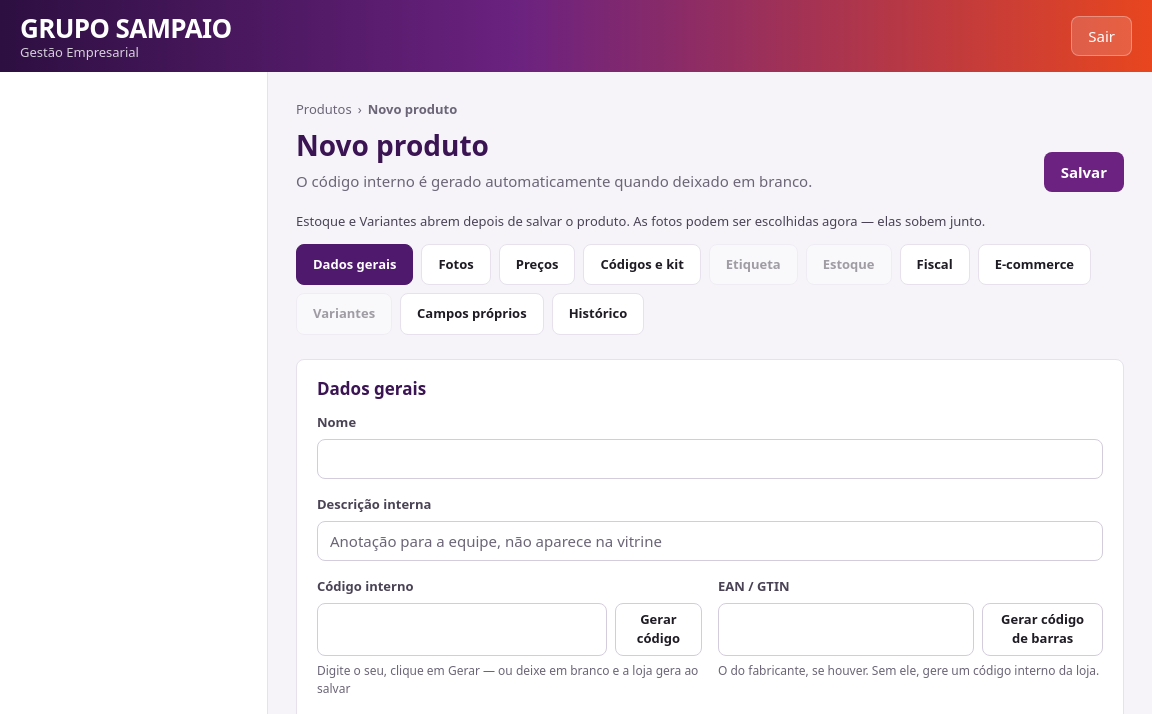
preço abaixo do piso pede confirmação (A-produto-17) › no cadastro NOVO, preço abaixo do piso também pergunta — Cancelar não cria nada
The width and height of the screenshot is (1152, 714).
Expected: the button "Salvar" is shown, [1044, 152, 1124, 192]
Type "Perfume 100ml" into the field labelled "Nome" at (710, 459), box [317, 438, 1103, 479]
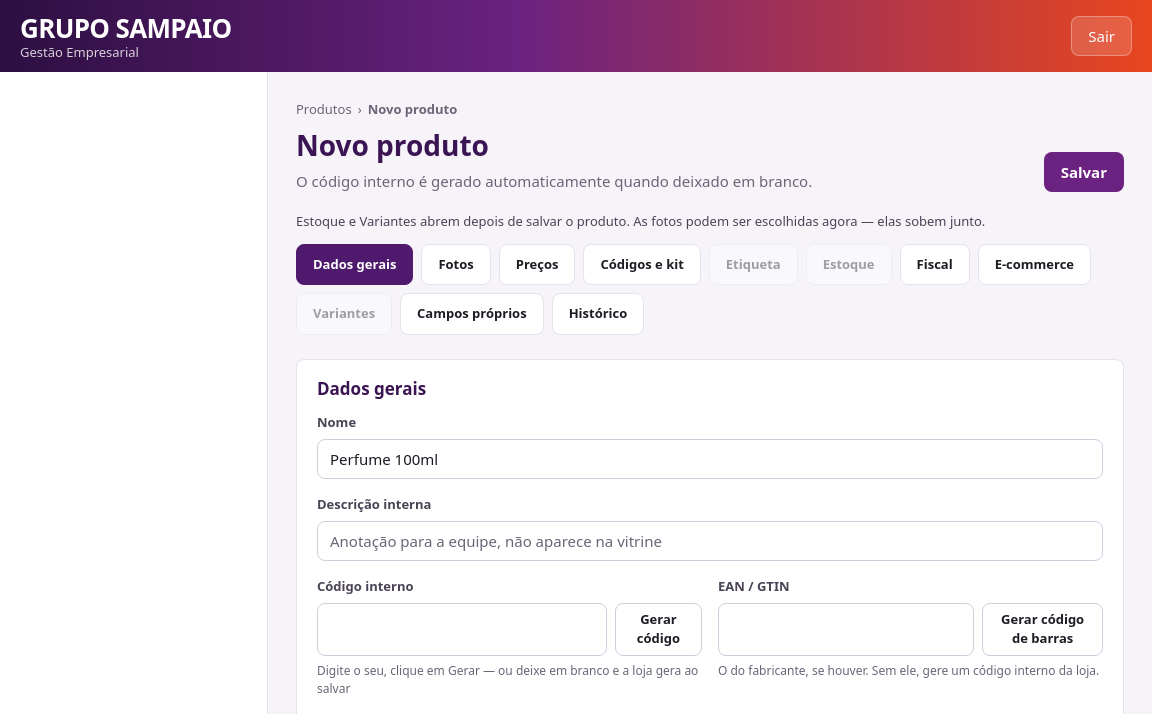
Click the tab "Preços" at (537, 264), box [499, 244, 576, 285]
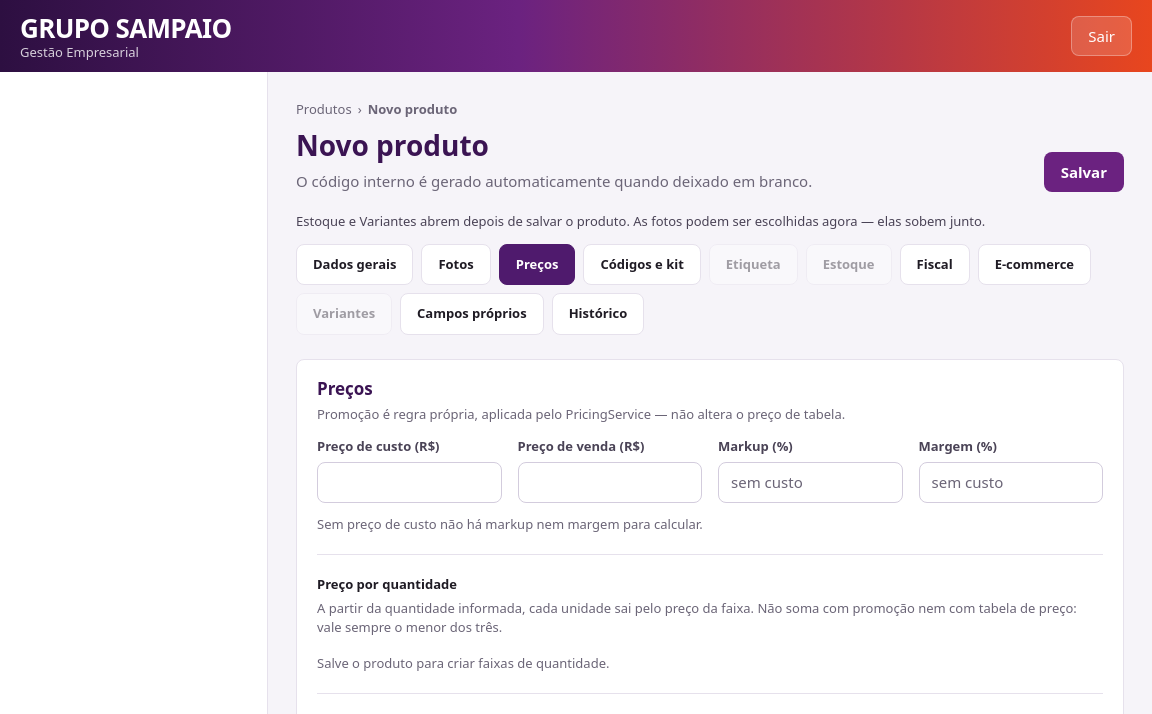
Type "19,90" into the field labelled "Preço de venda (R$)" at (610, 482), box [518, 462, 702, 502]
(page scrolled)
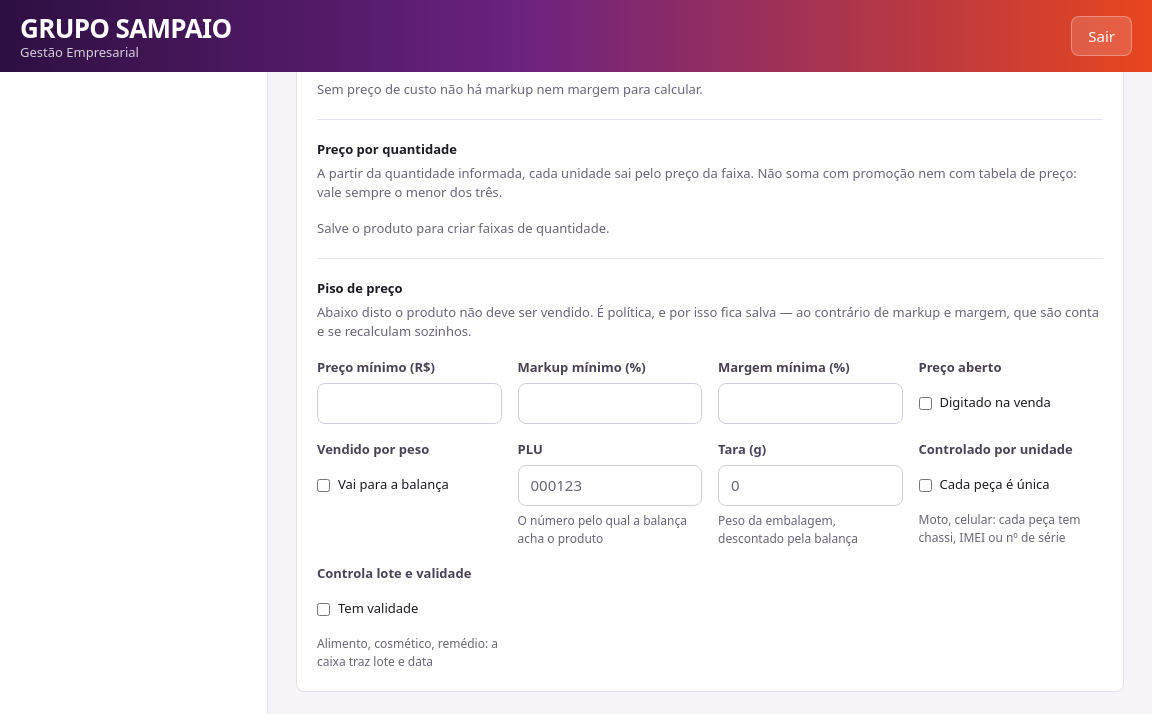
Type "25,00" into the field labelled "Preço mínimo (R$)" at (409, 403), box [317, 383, 502, 424]
(page scrolled)
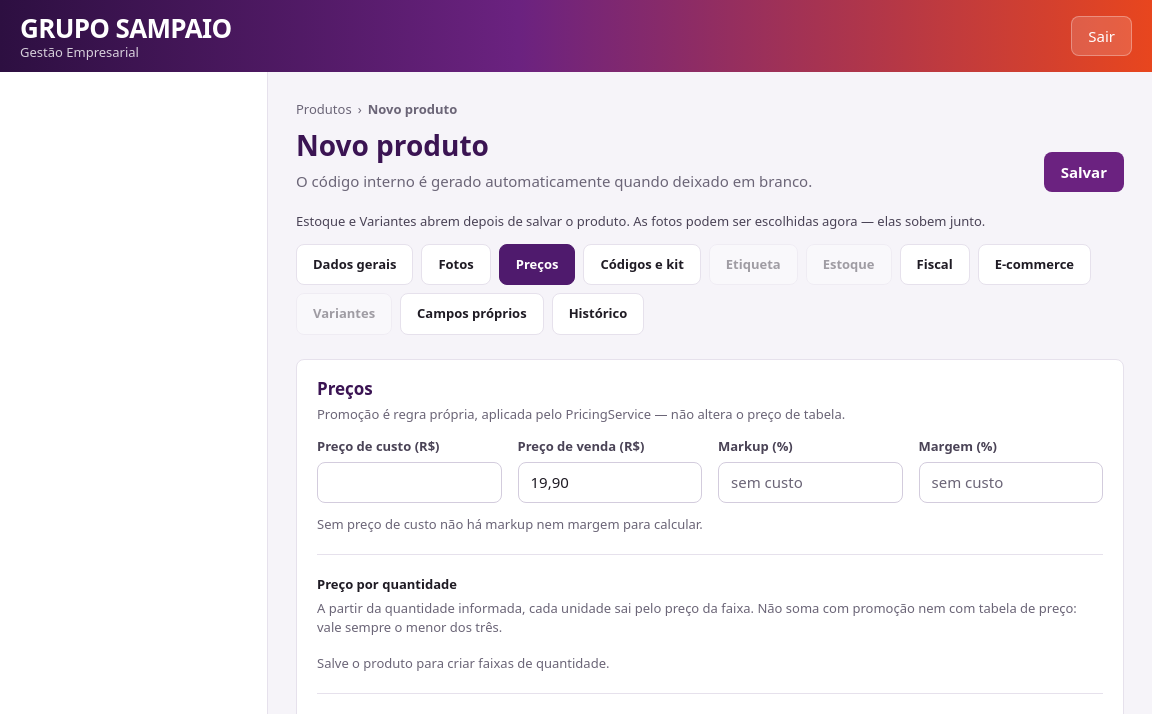
Click the button "Salvar" at (1084, 172), box [1044, 152, 1124, 192]
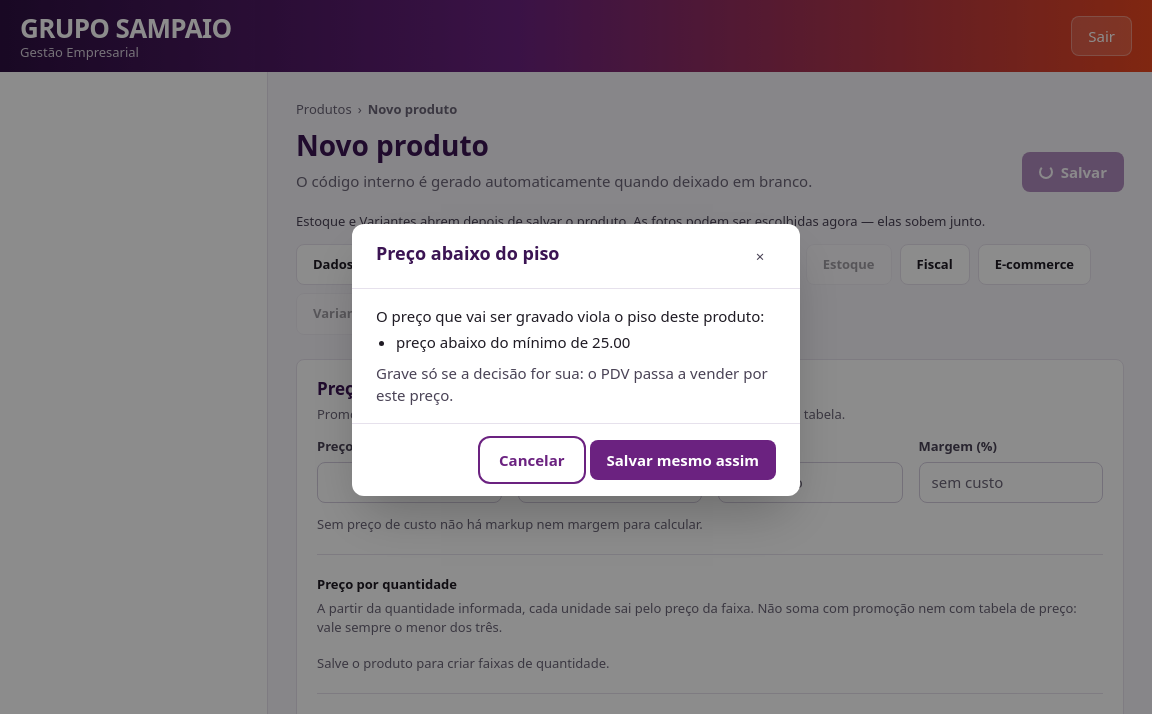
Result: the dialog shows "preço abaixo do mínimo de 25.00" at [396, 332, 630, 352]
Click the button "Cancelar" at (532, 460), box [482, 440, 582, 480]
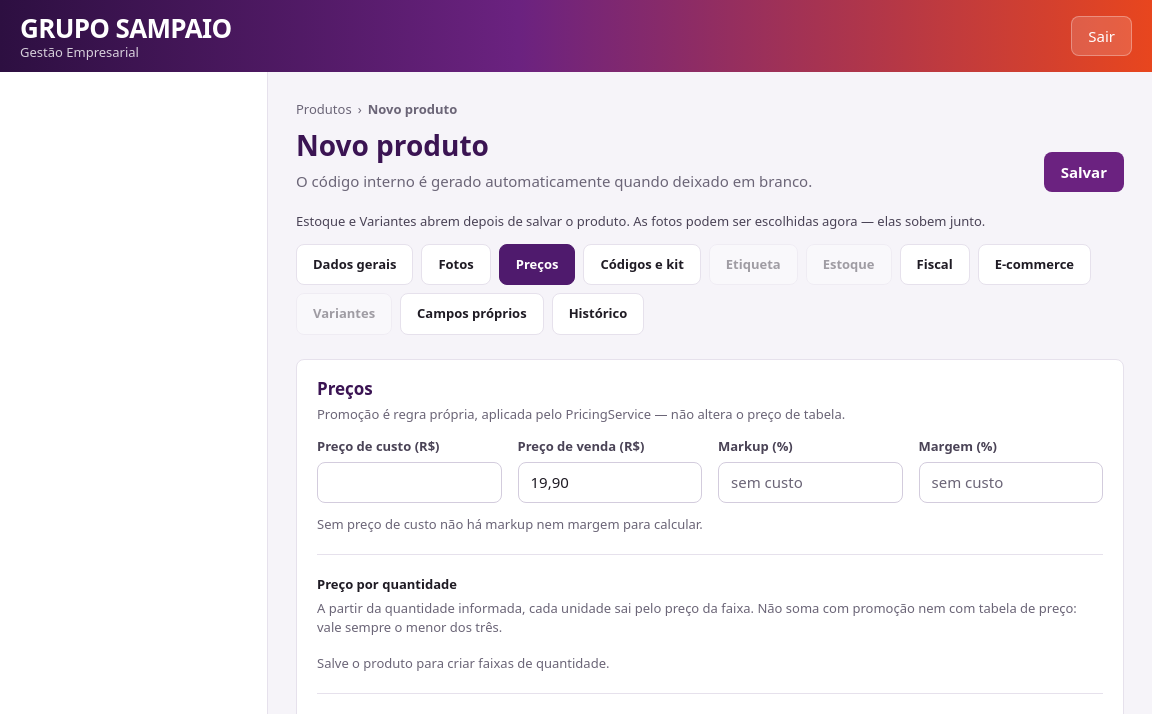
Result: the dialog is gone
